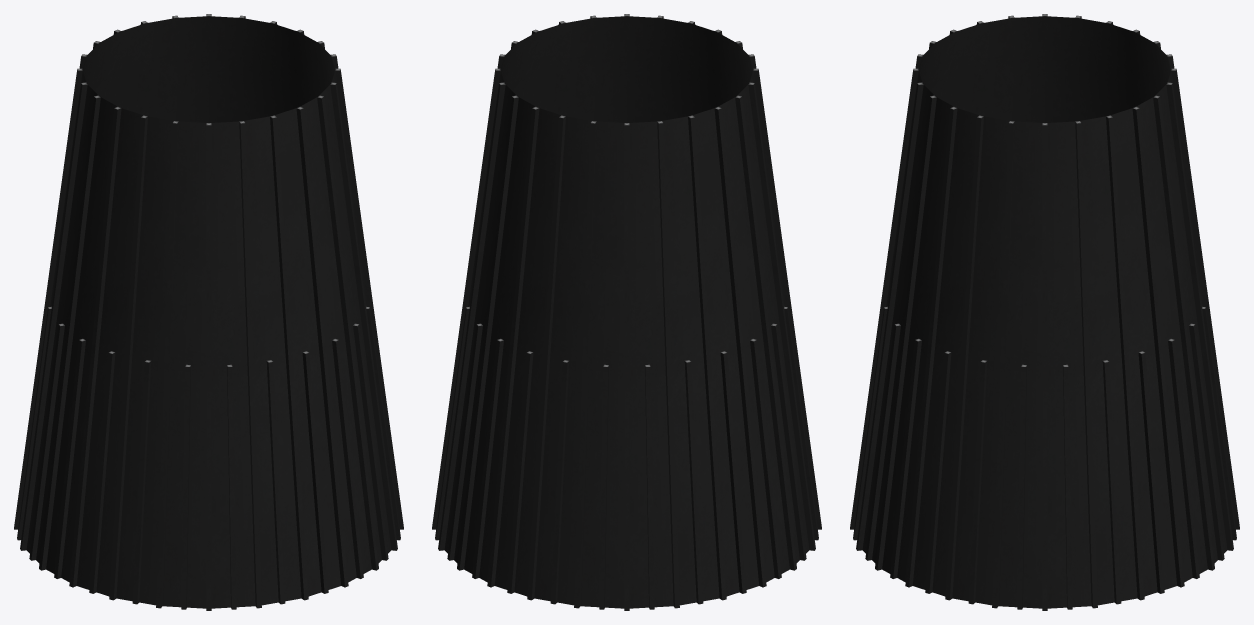
Rendered from blue_streak_fuel_tank_s1p5_s1_2.obj.
3 views of the same model, side by side, from view 1: azimuth 30°, elevation 25°; view 2: azimuth 150°, elevation 25°; view 3: azimuth 270°, elevation 25° (orthographic).
Parts seen in each view (by area): view 1: mesh2; view 2: mesh2; view 3: mesh2.
Part boxes in pixels (x1,y1,x2,y2): mesh2: [14, 14, 403, 610]; mesh2: [432, 14, 821, 610]; mesh2: [850, 14, 1239, 610].
Size of the model in its own units: 1.92 by 2.5 by 1.92.
